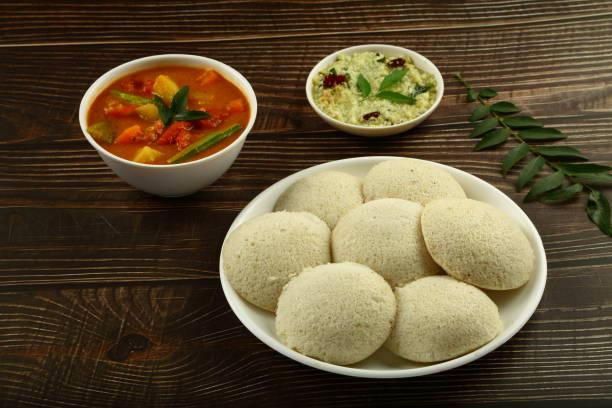coconut chutney: (307, 51, 442, 130)
idli: (223, 180, 567, 370)
sambhar: (82, 66, 254, 174)
